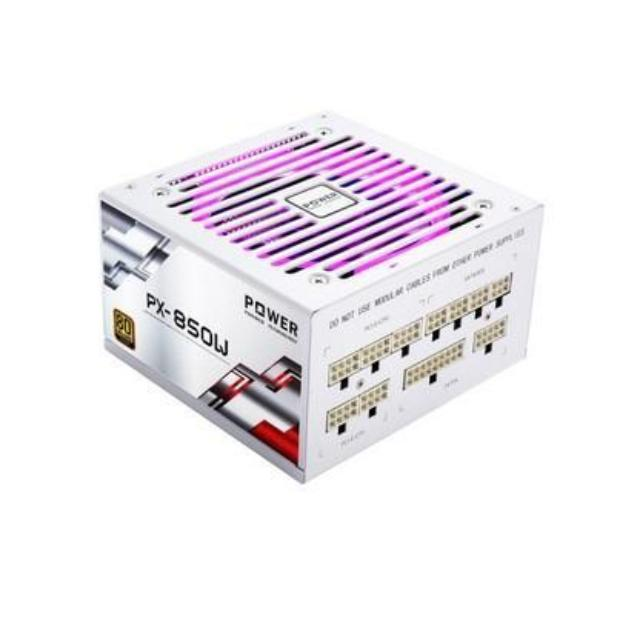PSU: (84, 102, 552, 492)
